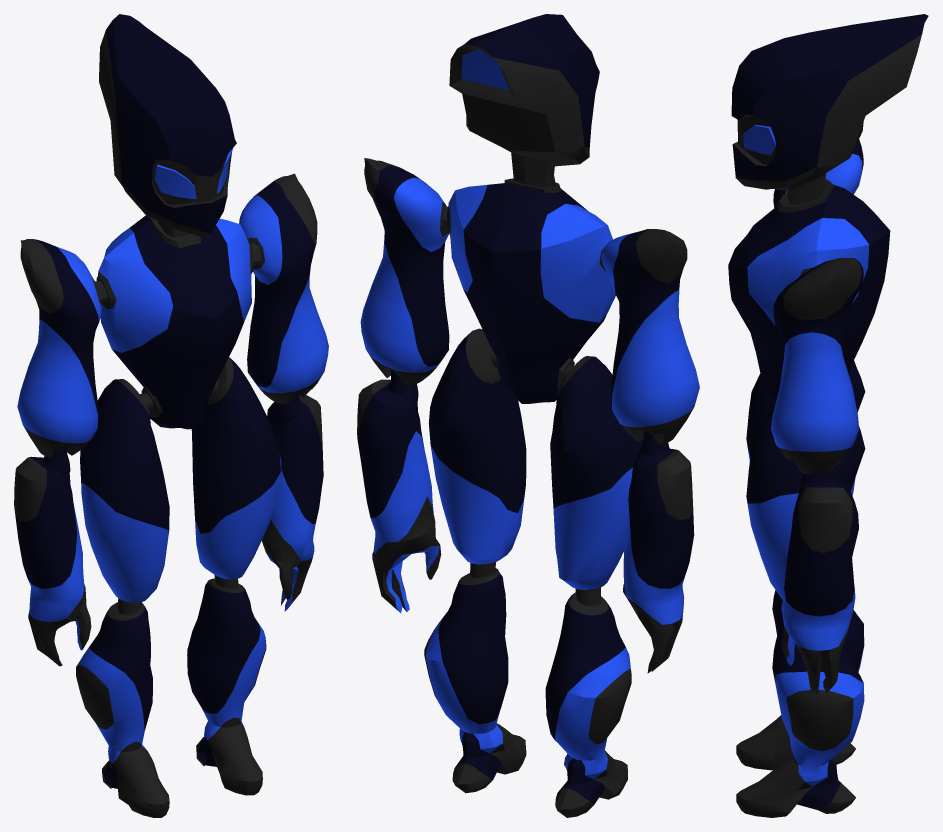
The model's file is Robo_3.fbx.
3 renders of one model, left to right at view 1: azimuth 30°, elevation 25°; view 2: azimuth 150°, elevation 25°; view 3: azimuth 270°, elevation 25°, orthographic. The views are drawn at different scales.
Visible parts, largest first — view 1: PernaDir_3, PernaEsq_3, BracoDir_3, Torso_3, BracoEsq_3, Cabeca_3; view 2: PernaEsq_3, PernaDir_3, BracoEsq_3, BracoDir_3, Torso_3, Cabeca_3; view 3: BracoEsq_3, Cabeca_3, PernaEsq_3, Torso_3, PernaDir_3, BracoDir_3.
Part boxes in pixels (left/top/right/bottom): PernaDir_3: left=76, top=379, right=169, bottom=817; PernaEsq_3: left=187, top=357, right=281, bottom=795; BracoDir_3: left=14, top=239, right=108, bottom=666; Torso_3: left=96, top=215, right=253, bottom=429; BracoEsq_3: left=239, top=173, right=328, bottom=611; Cabeca_3: left=99, top=14, right=236, bottom=238; PernaEsq_3: left=424, top=328, right=526, bottom=793; PernaDir_3: left=545, top=356, right=643, bottom=817; BracoEsq_3: left=357, top=158, right=449, bottom=612; BracoDir_3: left=601, top=229, right=699, bottom=673; Torso_3: left=447, top=178, right=615, bottom=403; Cabeca_3: left=449, top=14, right=599, bottom=187; BracoEsq_3: left=771, top=258, right=863, bottom=694; Cabeca_3: left=731, top=14, right=928, bottom=204; PernaEsq_3: left=736, top=406, right=865, bottom=817; Torso_3: left=728, top=179, right=890, bottom=400; PernaDir_3: left=736, top=360, right=865, bottom=770; BracoDir_3: left=773, top=139, right=863, bottom=495.
Bounding box in the file's own units: 132 × 306 × 72.11.
